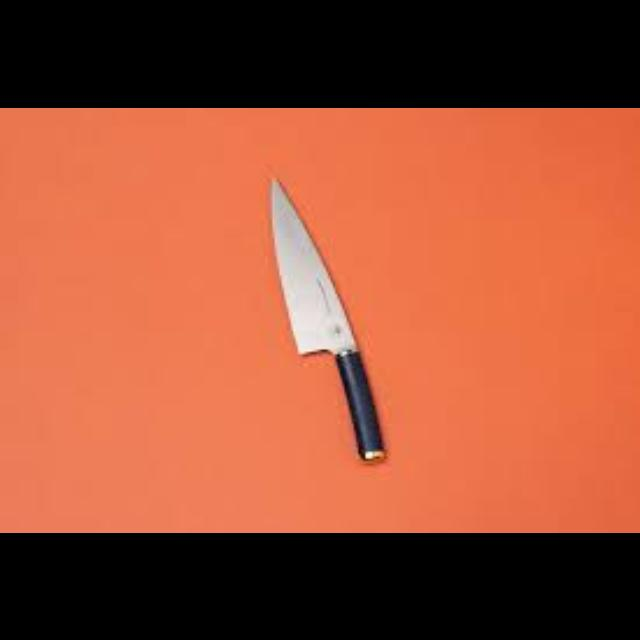knife: (268, 175, 386, 461)
